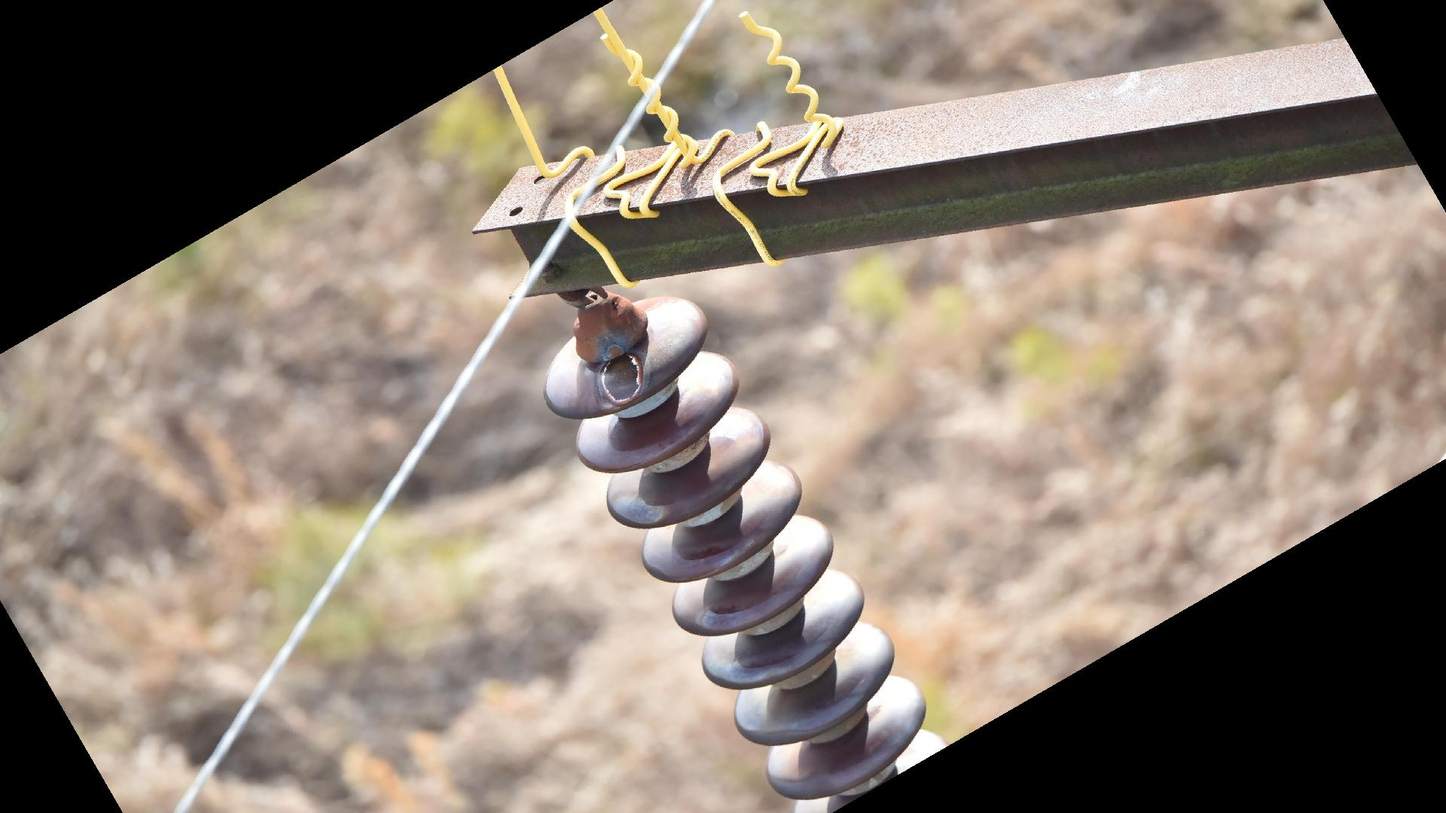insulator: (537, 290, 956, 813)
insulator_flashover: (593, 349, 645, 406)
